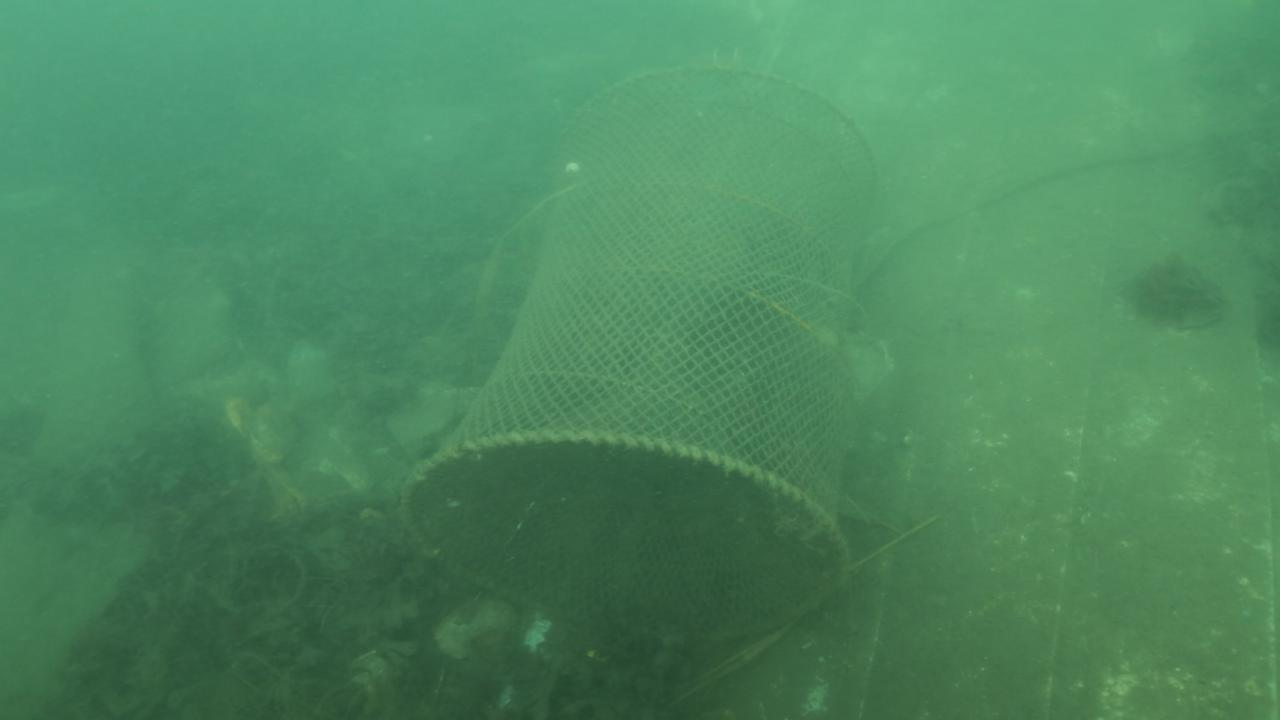spring fish trap: (401, 64, 883, 655)
